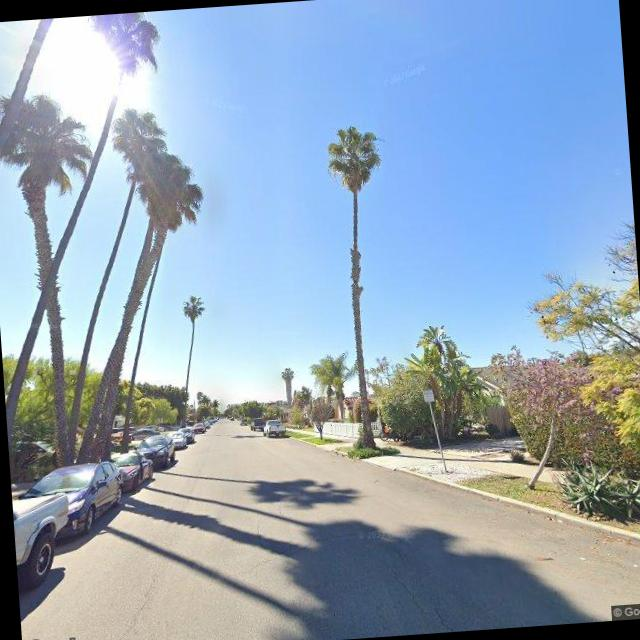crack: (384, 556, 513, 634)
